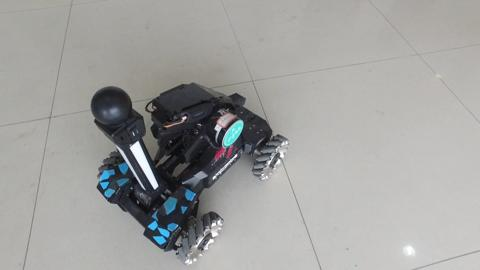chariot: (65, 68, 314, 268)
